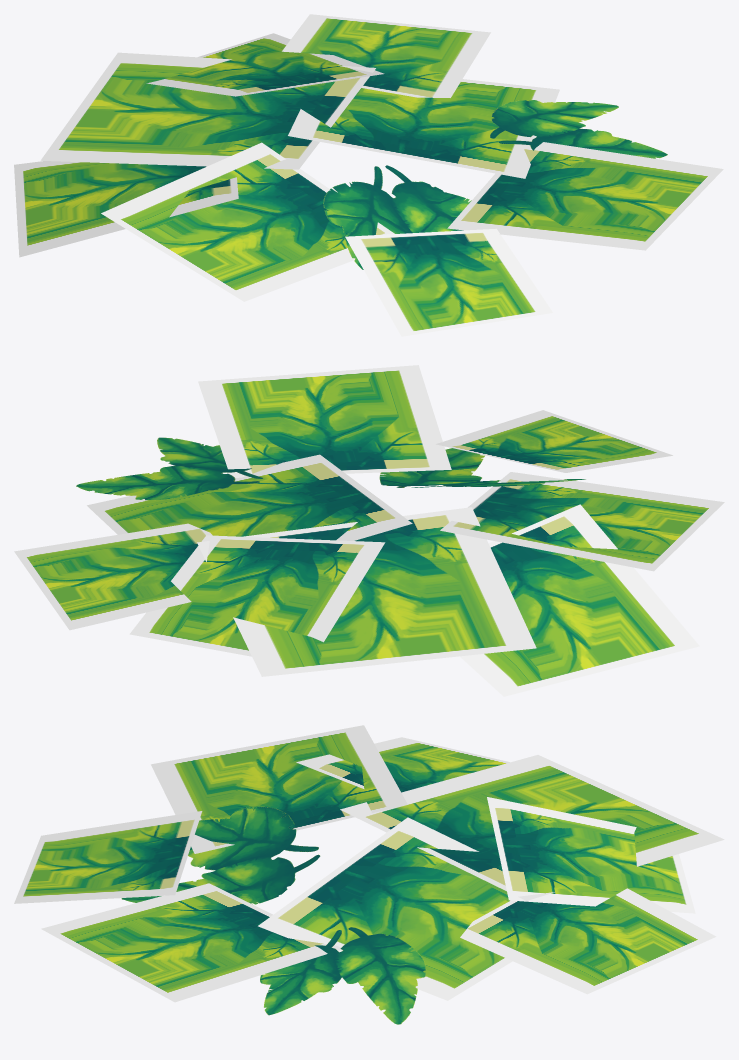
Rendered from SM_LeafPile.fbx.
3 views of the same model, one above another, from view 1: azimuth 30°, elevation 25°; view 2: azimuth 150°, elevation 25°; view 3: azimuth 270°, elevation 25° (orthographic). The views are drawn at different scales.
Visible parts, largest first — view 1: LeafPileMesh; view 2: LeafPileMesh; view 3: LeafPileMesh.
Part boxes in pixels (x1,y1,x2,y2): LeafPileMesh: (14, 14, 723, 336); LeafPileMesh: (14, 365, 724, 696); LeafPileMesh: (14, 725, 724, 1024).
Size of the model in its own units: 453 by 51.14 by 437.
